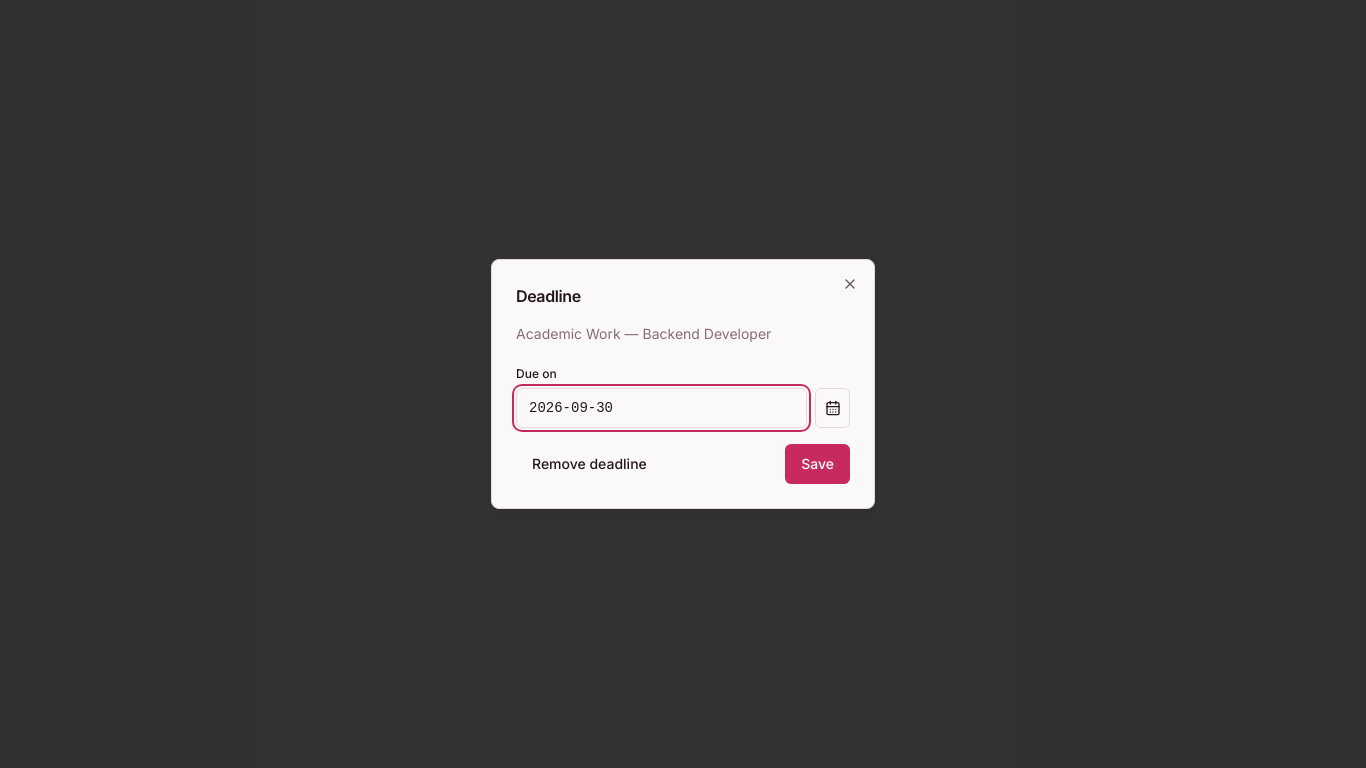
DeadlineDialog › says how to write it, and will not save, when it is not a date
Replace the text in the field labelled "Due on" with "12/31/2027" at [662, 408], box x1=516 y1=388 x2=807 y2=428
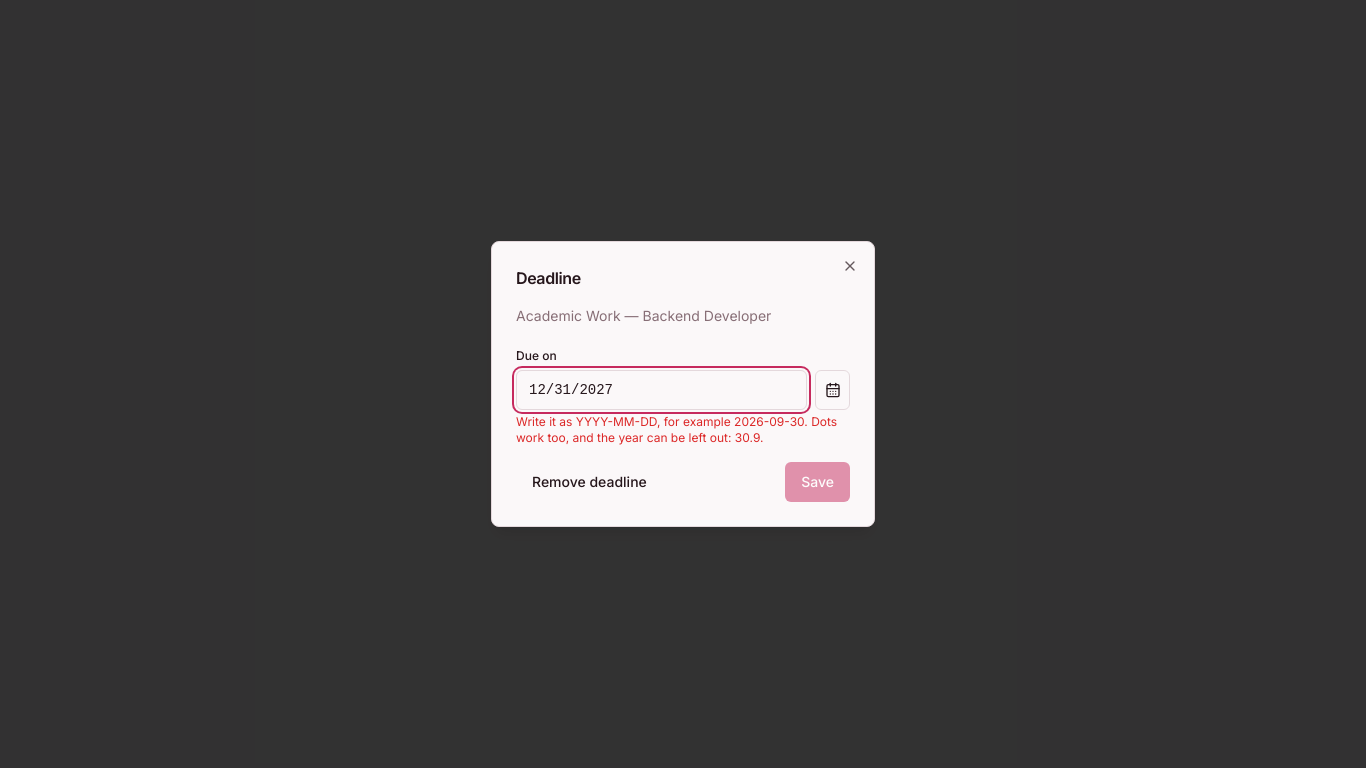
Check: the text "Write it as YYYY-MM-DD" is shown, box x1=516 y1=414 x2=837 y2=445
Check: the button "Save" is disabled, box x1=785 y1=462 x2=850 y2=502
